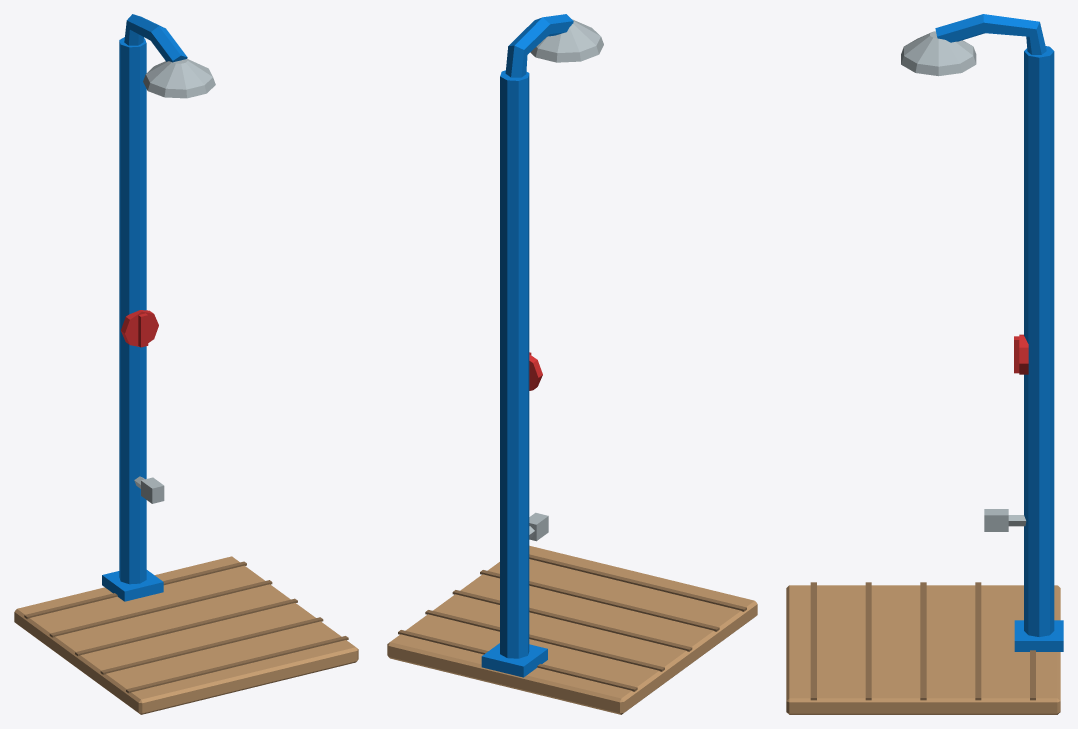
The model's file is strandusche.glb.
3 renders of one model, left to right at view 1: azimuth 30°, elevation 25°; view 2: azimuth 150°, elevation 25°; view 3: azimuth 270°, elevation 25°, orthographic. The views are drawn at different scales.
Parts seen in each view (by area): view 1: strandusche-m; view 2: strandusche-m; view 3: strandusche-m.
Part boxes in pixels (x1,y1,x2,y2): strandusche-m: (14,14,358,714); strandusche-m: (387,14,757,714); strandusche-m: (786,14,1063,714).
Size of the model in its own units: 0.9 by 2.33 by 0.91.
